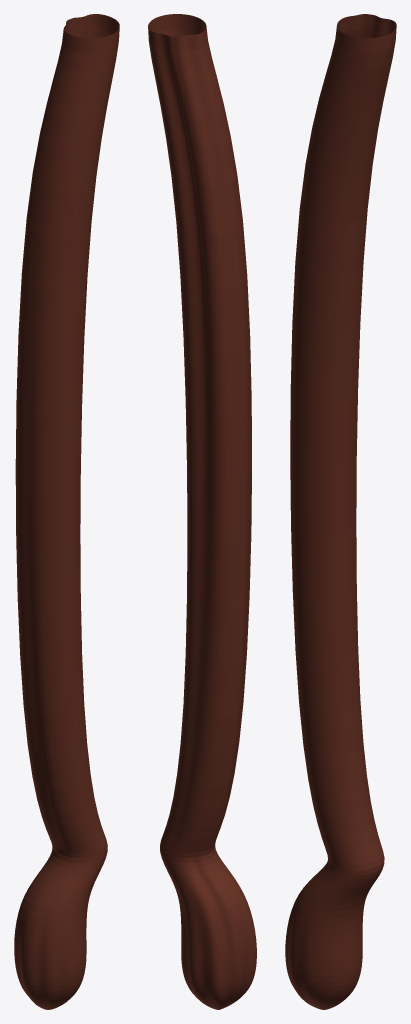
Rendered from LowerHalfStaff.obj.
3 views of the same model, side by side, from view 1: azimuth 30°, elevation 25°; view 2: azimuth 150°, elevation 25°; view 3: azimuth 330°, elevation 25° (orthographic). The views are drawn at different scales.
Parts seen in each view (by area): view 1: LowerHalf; view 2: LowerHalf; view 3: LowerHalf.
Part boxes in pixels (<box>): LowerHalf: <box>14,14,119,1009</box>; LowerHalf: <box>148,14,256,1009</box>; LowerHalf: <box>285,14,396,1009</box>.
Size of the model in its own units: 0.0448 by 0.4257 by 0.029.
Materials: 1 (1 with a texture image).
